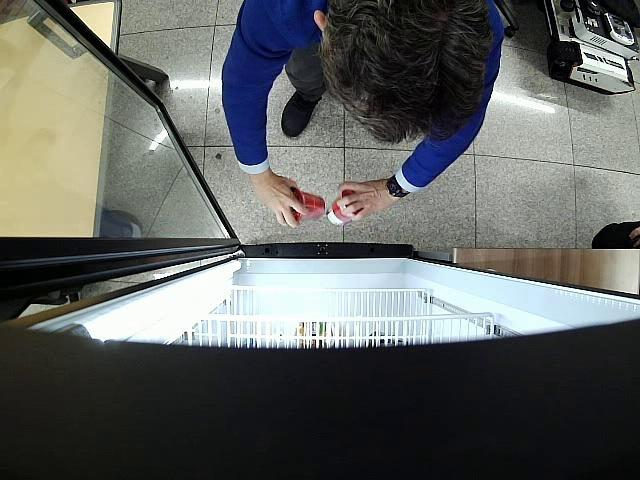02_shinRamen_S: (290, 184, 324, 226), (328, 190, 364, 227)
